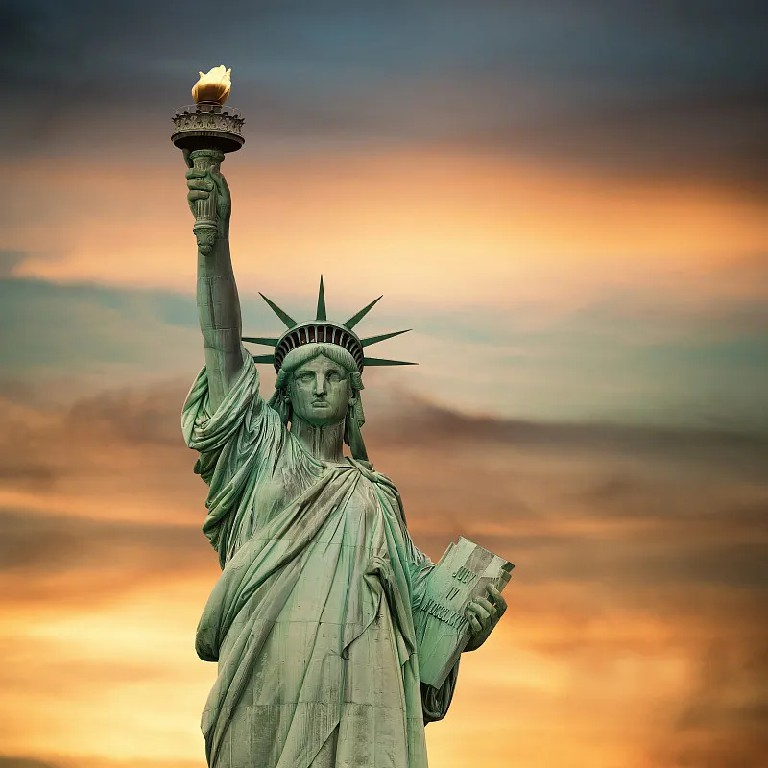SL: (171, 64, 517, 768)
